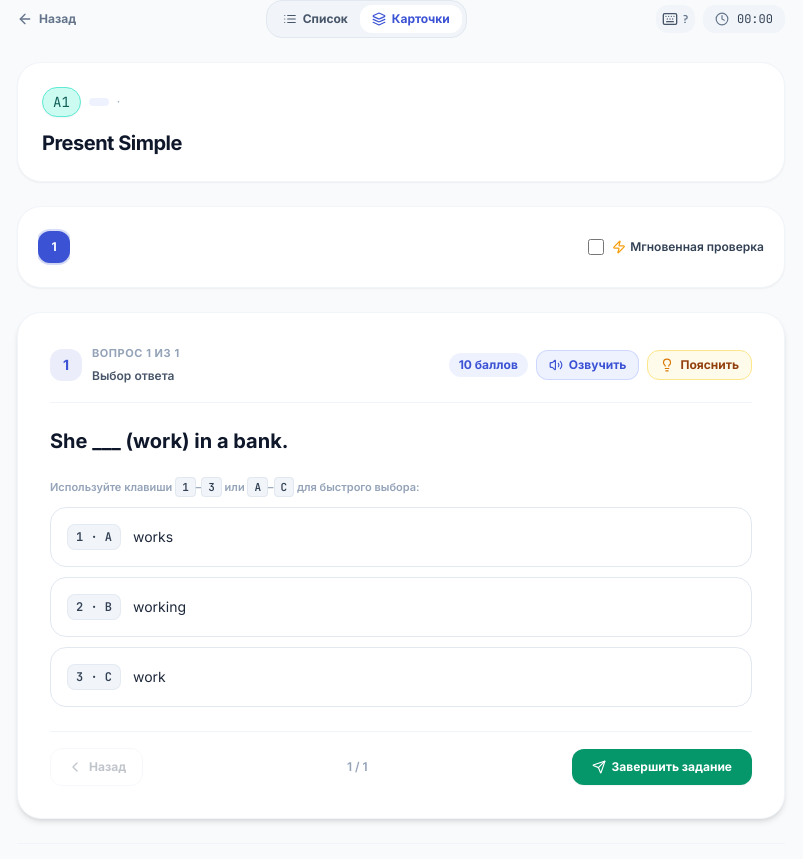
Test: TaskView component › locks options upon selection when instant feedback is enabled to prevent option-hunting
Expected: the heading "She ___ (work) in a bank." is shown, [50, 428, 288, 452]
Toggle Instant Feedback checkbox
Click the checkbox labelled "Мгновенная проверка" at (596, 247), box [588, 239, 604, 255]
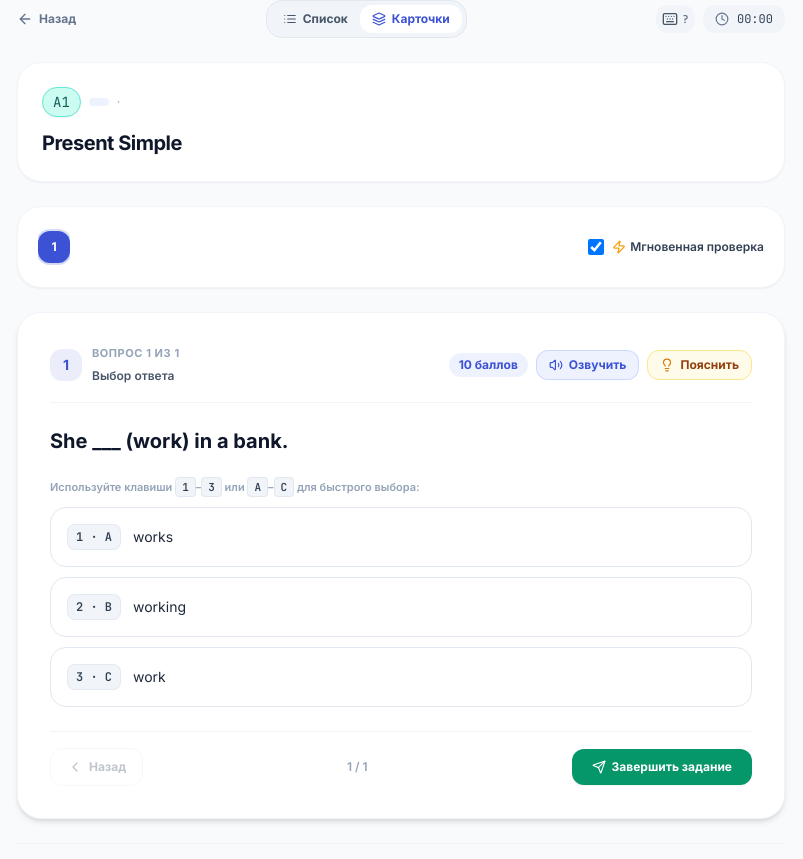
Result: the checkbox labelled "Мгновенная проверка" is checked at [588, 239, 604, 255]
Select the first option
Click the text "working" at (160, 607), box [133, 597, 186, 617]
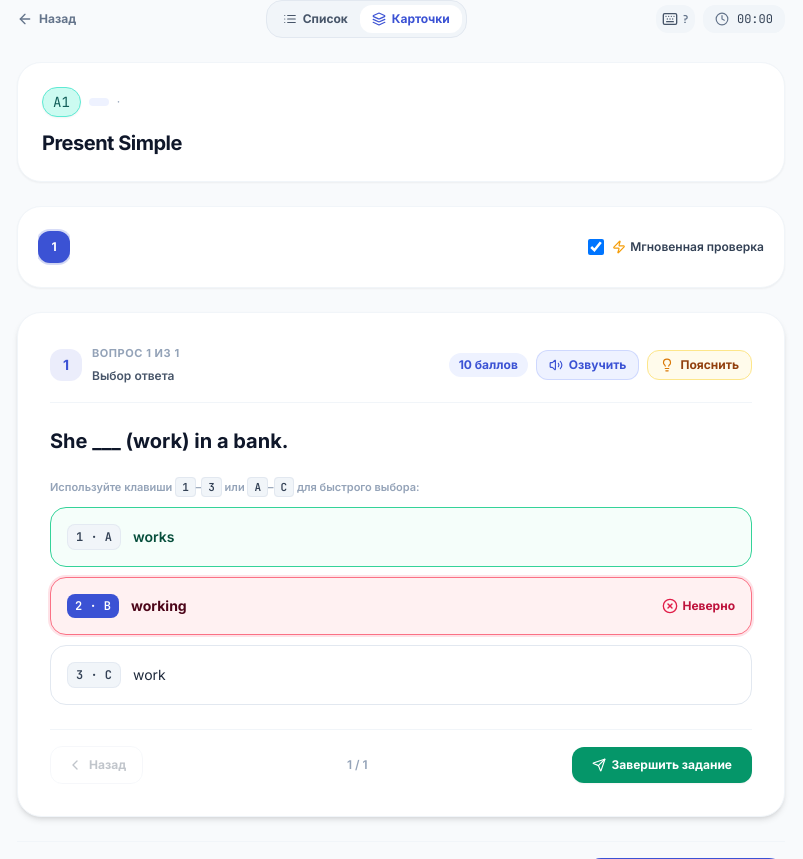
Result: the button "2 · B working Неверно" is disabled at [50, 577, 752, 635]
Result: the button "1 · A works" is disabled at [50, 507, 752, 567]
